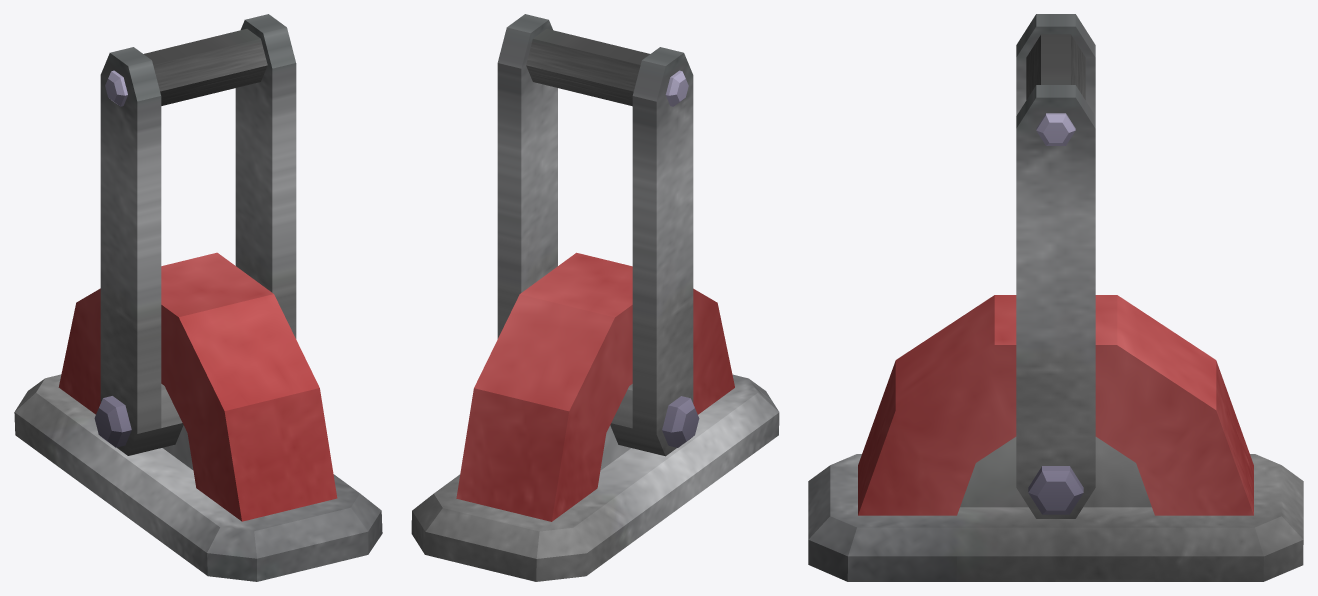
File: Lever.fbx
3 views of the same model, side by side, from view 1: azimuth 30°, elevation 25°; view 2: azimuth 150°, elevation 25°; view 3: azimuth 270°, elevation 25° (orthographic). The views are drawn at different scales.
Parts seen in each view (by area): view 1: LeverBase, Lever, Cylinder001, Cylinder002; view 2: LeverBase, Lever, Cylinder001, Cylinder002; view 3: LeverBase, Lever, Cylinder001, Cylinder002.
Boxes of the visible parts, x1,y1,x2,y2 form: LeverBase: [14, 252, 382, 581]; Lever: [100, 14, 296, 455]; Cylinder001: [94, 396, 131, 447]; Cylinder002: [105, 70, 127, 106]; LeverBase: [411, 252, 779, 581]; Lever: [497, 14, 693, 456]; Cylinder001: [662, 396, 699, 447]; Cylinder002: [665, 70, 688, 106]; LeverBase: [808, 295, 1303, 581]; Lever: [1016, 14, 1095, 518]; Cylinder001: [1028, 466, 1083, 514]; Cylinder002: [1036, 113, 1075, 145].
Bounding box in the file's own units: 60 × 134 × 125.
4 materials, 4 textured.
